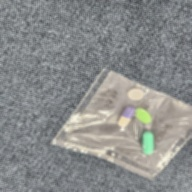러키펜정: (128, 88, 144, 101)
씨엠지세파클러캡슐: (117, 106, 136, 128)
에르도캡슐: (141, 131, 155, 156)
휴티렌정: (135, 108, 152, 125)
